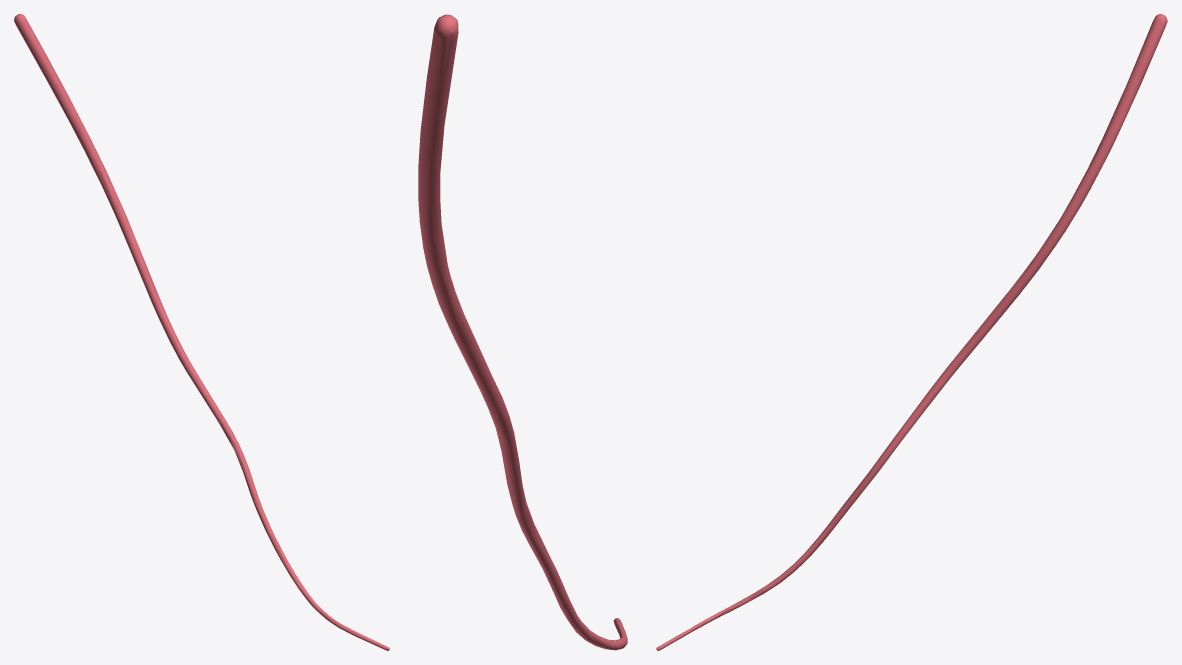
The model's file is fma85099_fj2340.glb.
3 renders of one model, left to right at view 1: azimuth 30°, elevation 25°; view 2: azimuth 150°, elevation 25°; view 3: azimuth 270°, elevation 25°, orthographic. The views are drawn at different scales.
Parts seen in each view (by area): view 1: FMA85099_FJ2340; view 2: FMA85099_FJ2340; view 3: FMA85099_FJ2340.
Part boxes in pixels (box(x1,y1,x2,y2)): FMA85099_FJ2340: box(14, 14, 389, 650); FMA85099_FJ2340: box(418, 14, 627, 650); FMA85099_FJ2340: box(656, 14, 1167, 650).
Bounding box in the file's own units: 0.0199 × 0.0647 × 0.0535.
